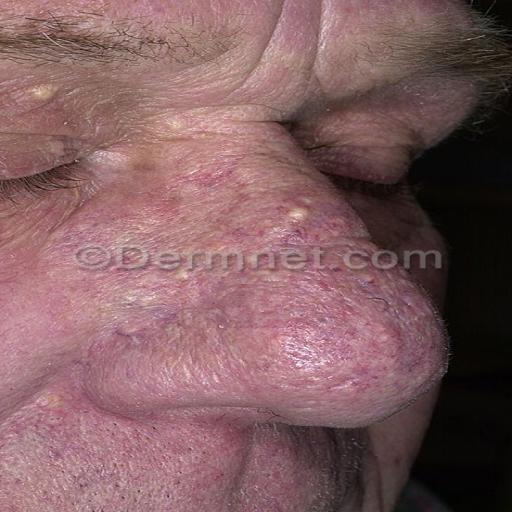Skin_Lesion: (96, 278, 159, 322), (277, 313, 344, 349), (268, 202, 338, 232), (20, 374, 67, 416), (16, 74, 68, 110), (330, 370, 386, 402), (26, 440, 80, 472), (297, 266, 345, 298), (194, 158, 234, 196), (174, 258, 208, 302), (320, 0, 374, 23), (382, 314, 406, 342), (160, 108, 191, 128)
